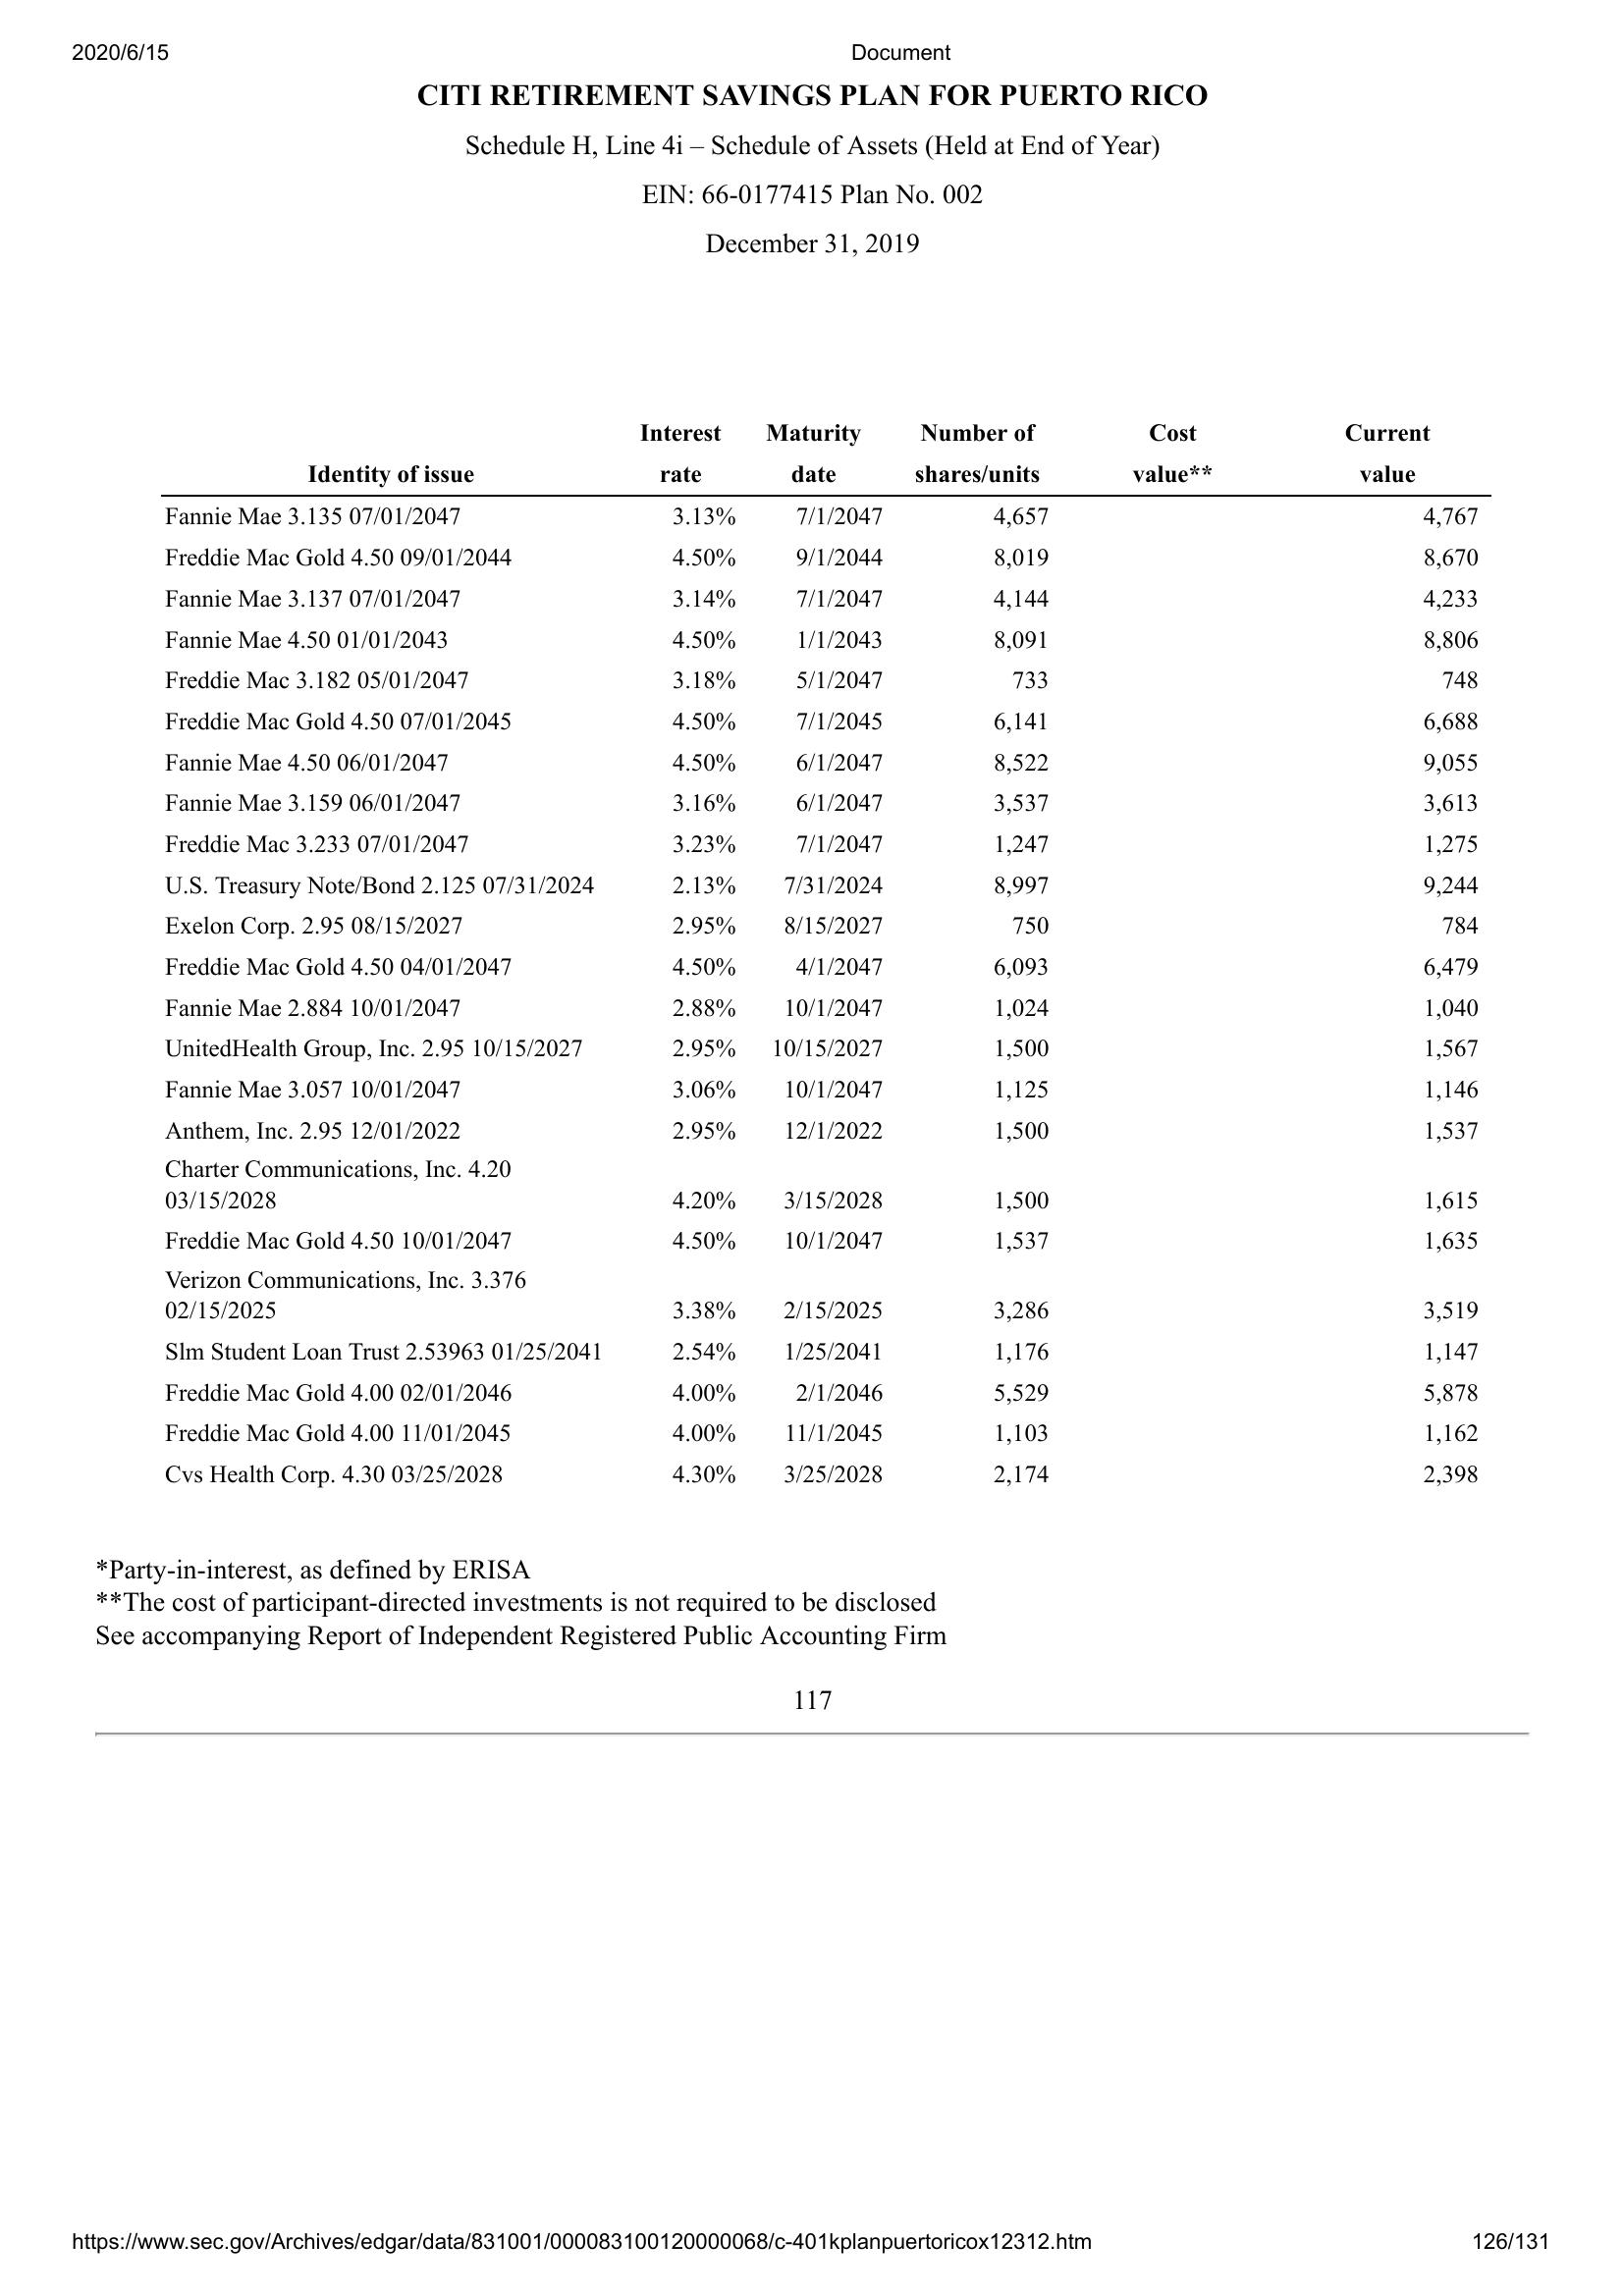table: (153, 418, 1490, 1494)
